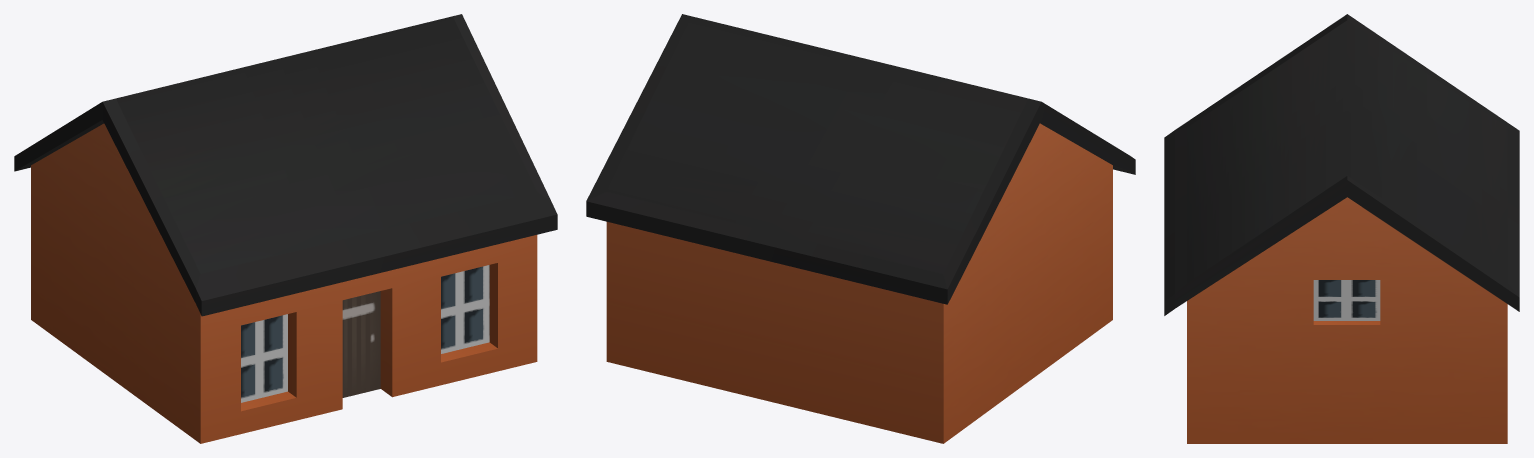
Rendered from House_simple.FBX.
3 renders of one model, left to right at view 1: azimuth 30°, elevation 25°; view 2: azimuth 150°, elevation 25°; view 3: azimuth 270°, elevation 25°, orthographic. The views are drawn at different scales.
Parts seen in each view (by area): view 1: Box006; view 2: Box006; view 3: Box006.
Part boxes in pixels (left/top/right/bottom): Box006: left=14, top=14, right=557, bottom=443; Box006: left=586, top=14, right=1135, bottom=443; Box006: left=1164, top=14, right=1519, bottom=443.
Size of the model in its own units: 416 by 309 by 371.
